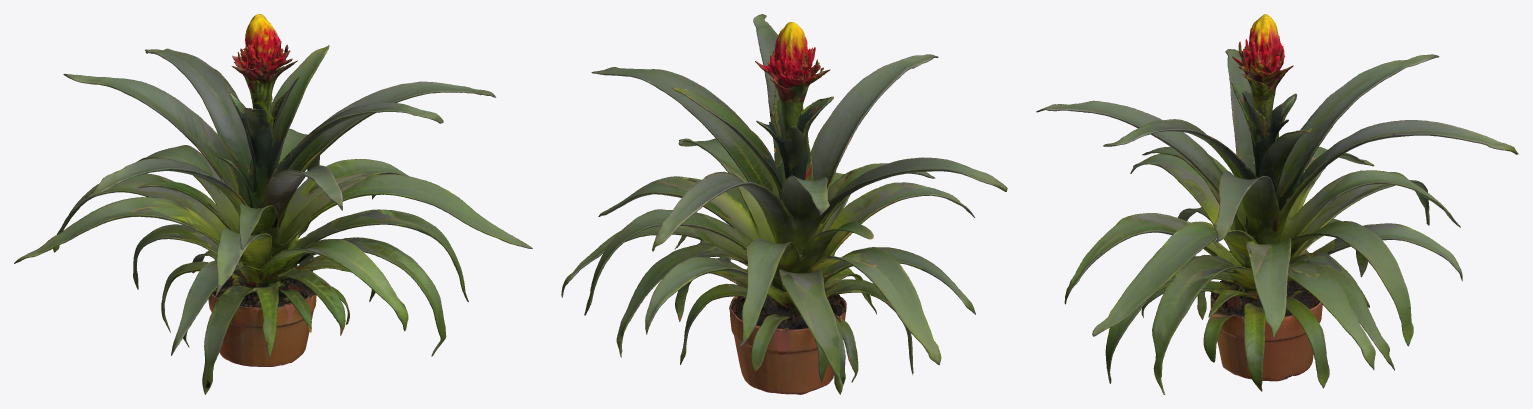
The model's file is GuzmaniaTorch3dModel.glb.
The picture shows the model from 3 angles, left to right: view 1: azimuth 30°, elevation 25°; view 2: azimuth 150°, elevation 25°; view 3: azimuth 270°, elevation 25°; orthographic projection. The views are drawn at different scales.
Bounding box in the file's own units: 1.99 × 1.59 × 1.99.
1 material, 1 textured.
